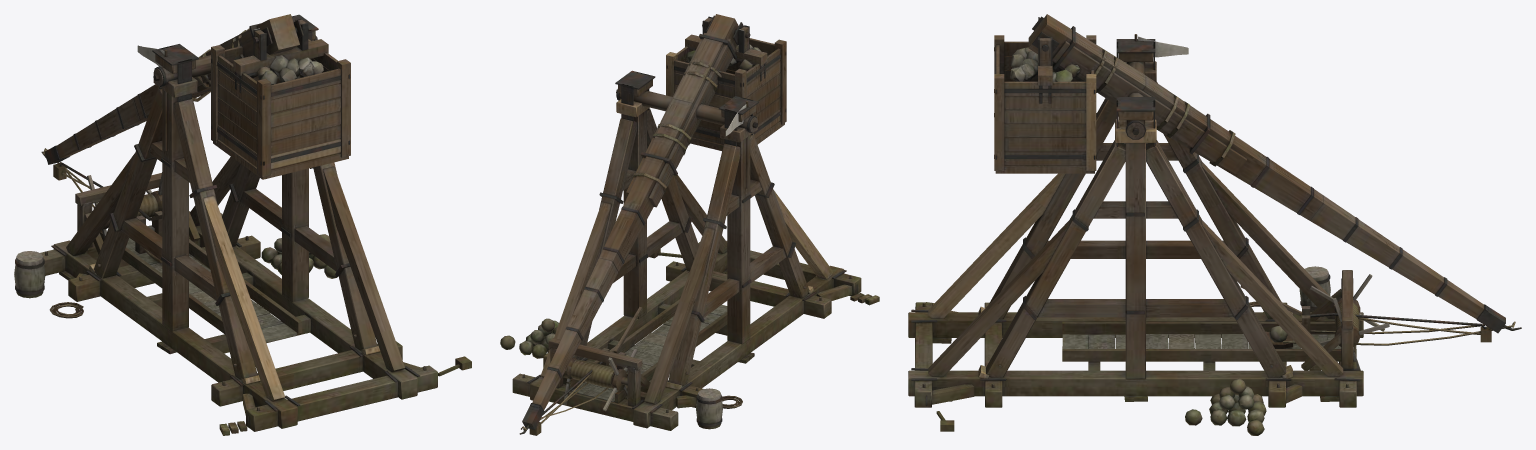
Rendered from trebuchet.glb.
The picture shows the model from 3 angles, left to right: view 1: azimuth 30°, elevation 25°; view 2: azimuth 150°, elevation 25°; view 3: azimuth 270°, elevation 25°; orthographic projection. The views are drawn at different scales.
Parts seen in each view (by area): view 1: body_LOD0, counterweight, arm; view 2: body_LOD0, arm, counterweight; view 3: body_LOD0, arm, counterweight, sling.
Part boxes in pixels (x1,y1,x2,y2): body_LOD0: (14,14,471,435); counterweight: (211,18,350,179); arm: (41,14,317,164); body_LOD0: (500,70,879,435); arm: (519,14,757,434); counterweight: (666,16,786,150); body_LOD0: (908,34,1491,435); arm: (1028,14,1521,333); counterweight: (994,17,1096,173); sling: (1266,321,1515,348).
Size of what is drawn, in the model's own units: 7.13 by 8.33 by 13.34.
Materials: 2 (2 with a texture image).
